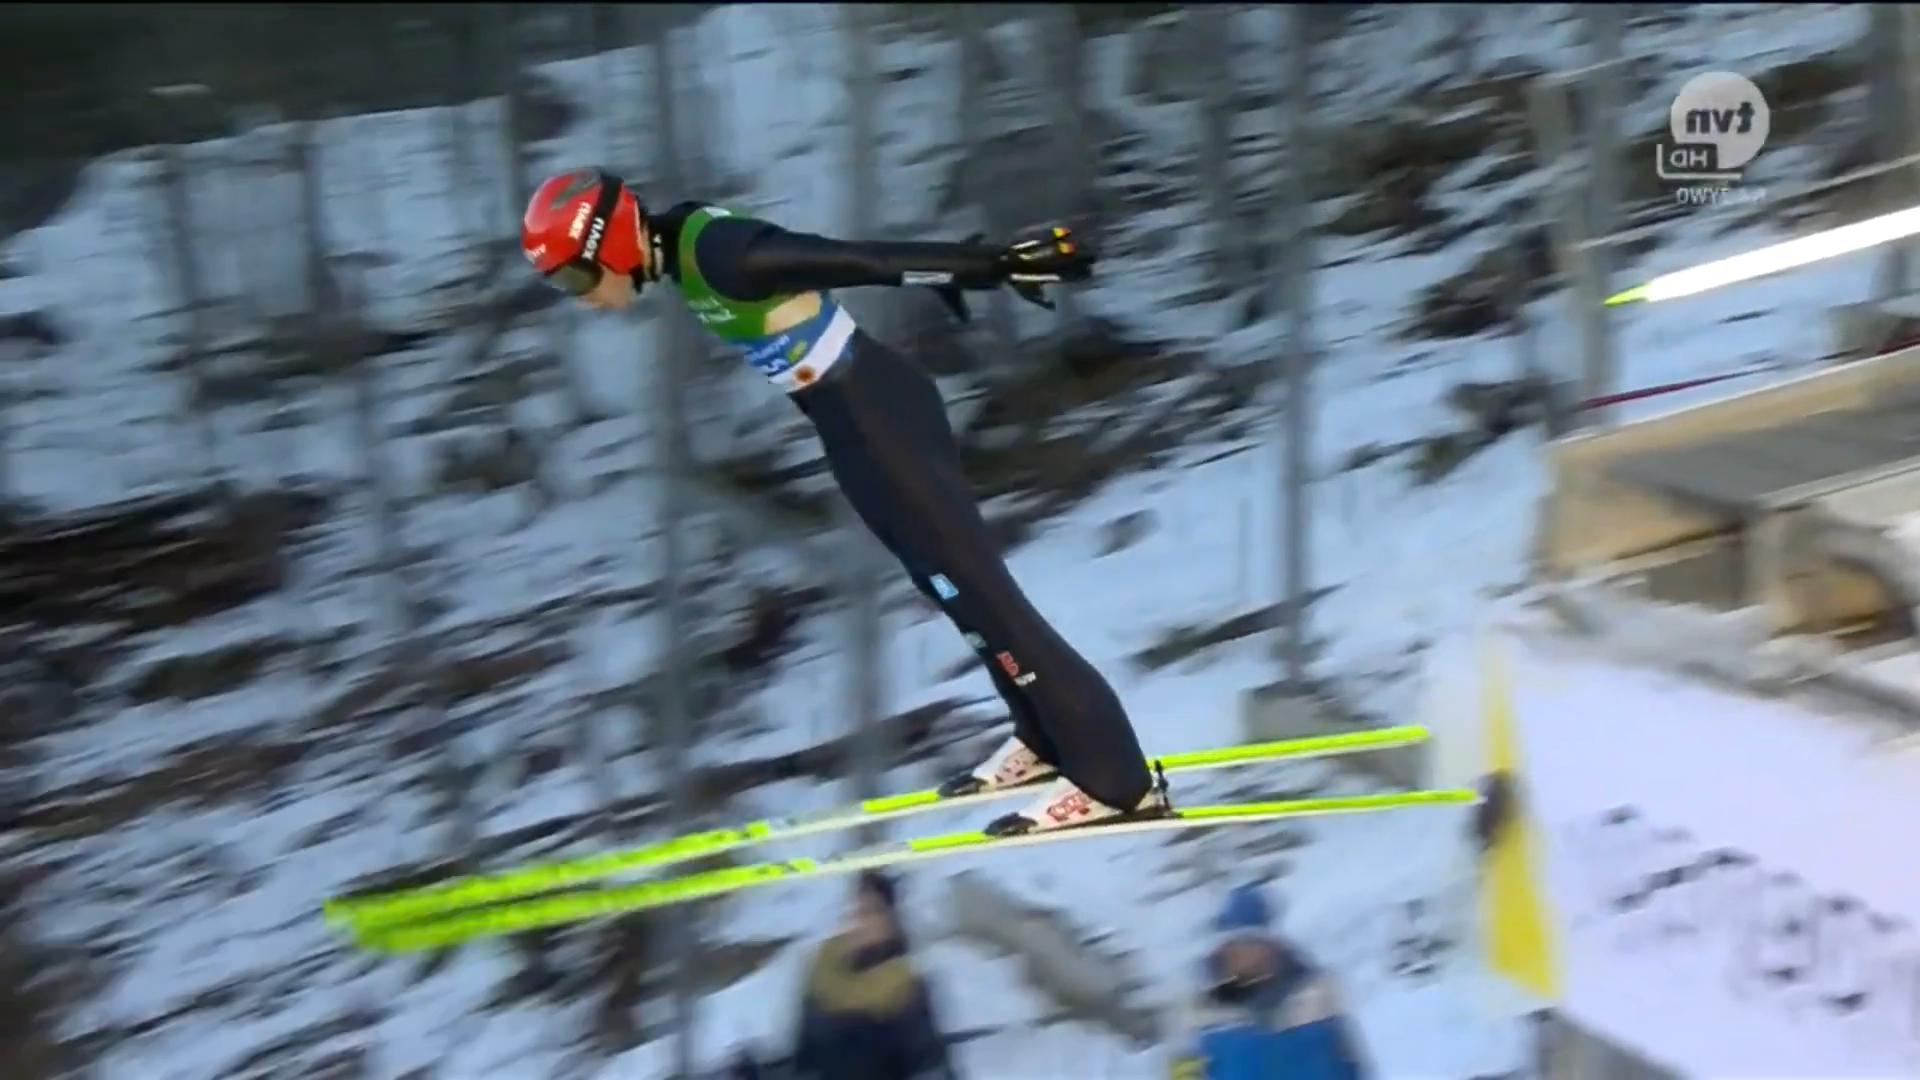prog: (1604, 460, 1838, 530)
